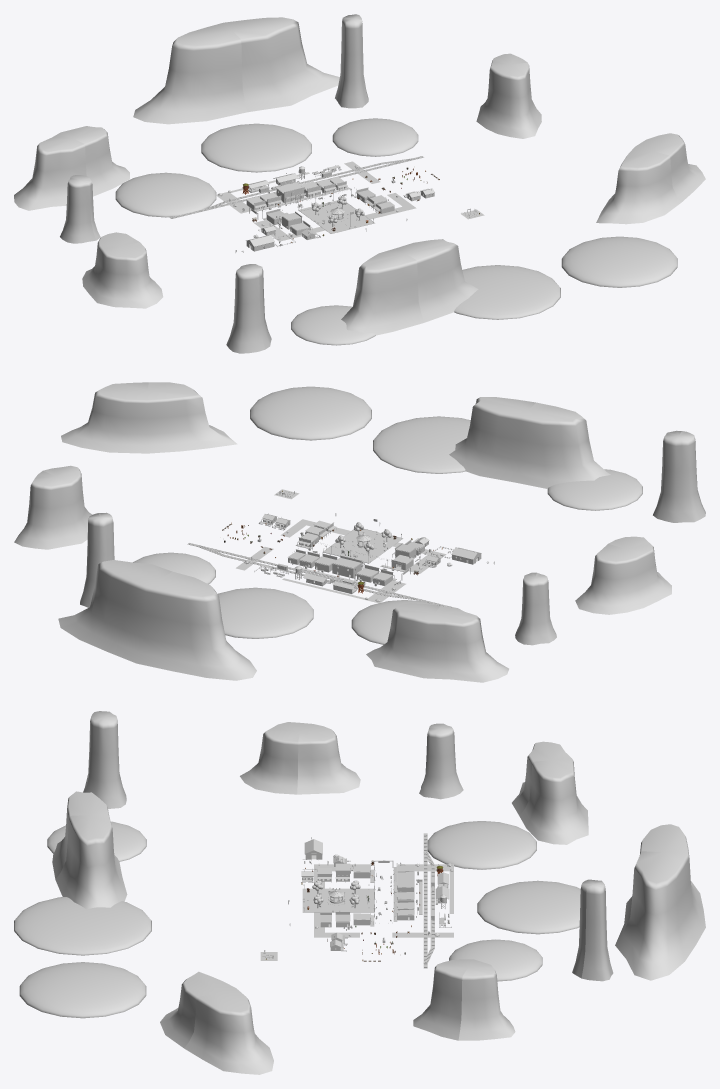
The model's file is tc-town.glb.
The picture shows the model from 3 angles, top to bottom: view 1: azimuth 30°, elevation 25°; view 2: azimuth 150°, elevation 25°; view 3: azimuth 270°, elevation 25°; orthographic projection. The views are drawn at different scales.
Visible parts, largest first — view 1: mesa||0, mesaDark||0, hill||0, roofTin||1, grassDry||0, dirtPath||1, trimDark||1, ballast||0; view 2: mesa||0, mesaDark||0, hill||0, roofTin||1, grassDry||0, dirtPath||1, ballast||0, trimDark||1, tie||0, deck||1; view 3: mesa||0, hill||0, mesaDark||0, roofTin||1, grassDry||0, dirtPath||1, ballast||0, tie||0.
Part boxes in pixels (x1,y1,x2,y2): mesa||0: (14,14,541,353); mesaDark||0: (82,17,705,308); hill||0: (115,118,677,345); roofTin||1: (246,165,428,234); grassDry||0: (216,161,484,241); dirtPath||1: (249,202,478,248); trimDark||1: (249,170,470,240); ballast||0: (170,156,423,218); mesa||0: (14,397,705,682); mesaDark||0: (58,382,671,680); hill||0: (133,386,642,644); roofTin||1: (259,518,435,589); grassDry||0: (236,489,446,603); dirtPath||1: (280,491,477,563); ballast||0: (187,543,454,607); trimDark||1: (263,493,478,586); tie||0: (188,543,449,606); deck||1: (262,521,435,593); mesa||0: (52,711,613,1040); hill||0: (14,821,580,1018); mesaDark||0: (160,722,705,1074); roofTin||1: (302,858,448,947); grassDry||0: (260,864,453,960); dirtPath||1: (262,855,369,959); ballast||0: (423,833,434,968); tie||0: (424,833,434,967).
Size of the model in its own units: 533 by 70.2 by 494.
49 materials, 49 textured.
